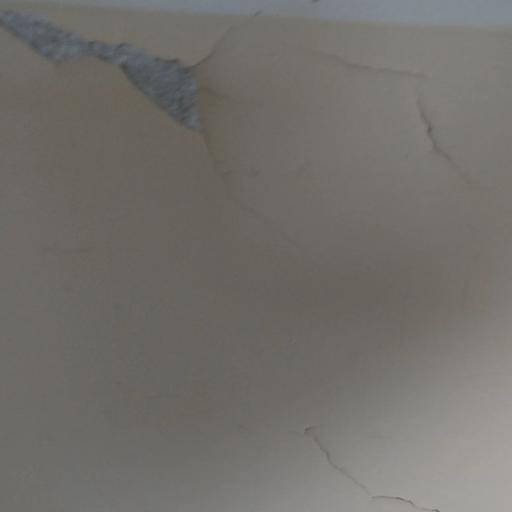peeling: (0, 0, 258, 168), (331, 38, 502, 189), (262, 395, 432, 512)
